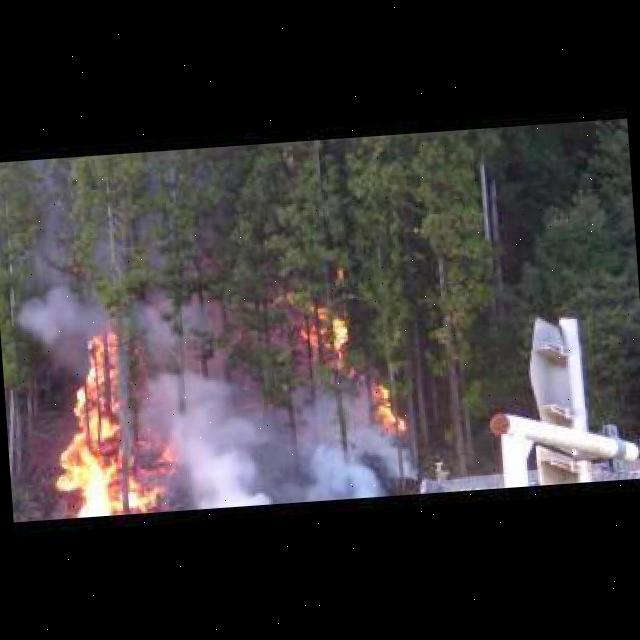fire: (38, 321, 177, 517), (296, 306, 344, 372), (368, 380, 404, 432)
